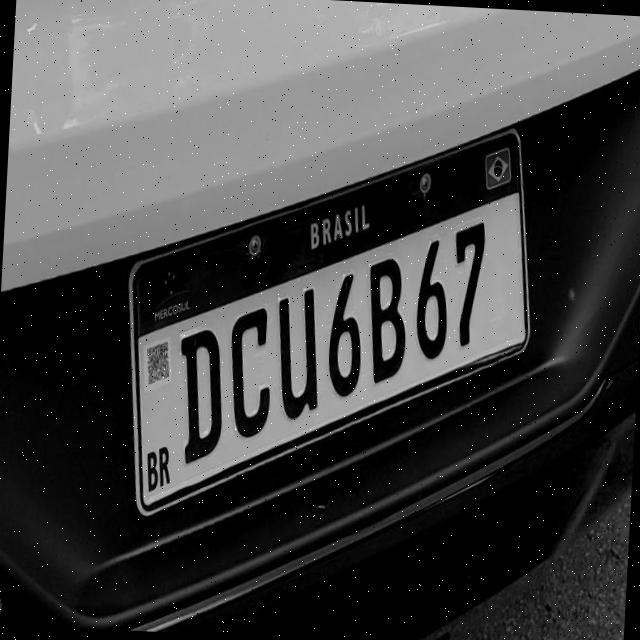placa_mercosul: (128, 127, 531, 514)
